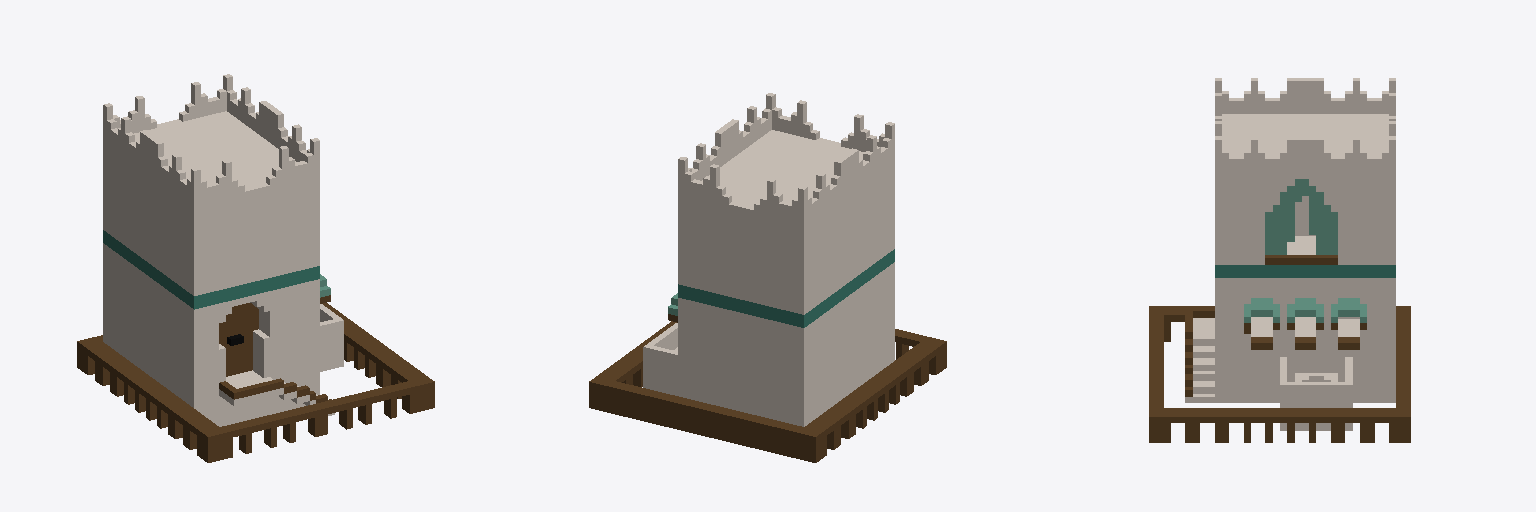
3 views of the same model, side by side, from view 1: azimuth 30°, elevation 25°; view 2: azimuth 150°, elevation 25°; view 3: azimuth 270°, elevation 25° (orthographic).
Parts seen in each view (by area): view 1: object 1; view 2: object 1; view 3: object 1.
Part boxes in pixels (x1,y1,x2,y2): object 1: (77,74,434,462); object 1: (589,93,946,462); object 1: (1149,78,1410,442).
Size of the model in its own units: 3.6 by 4 by 3.6.
1 materials, 1 textured.